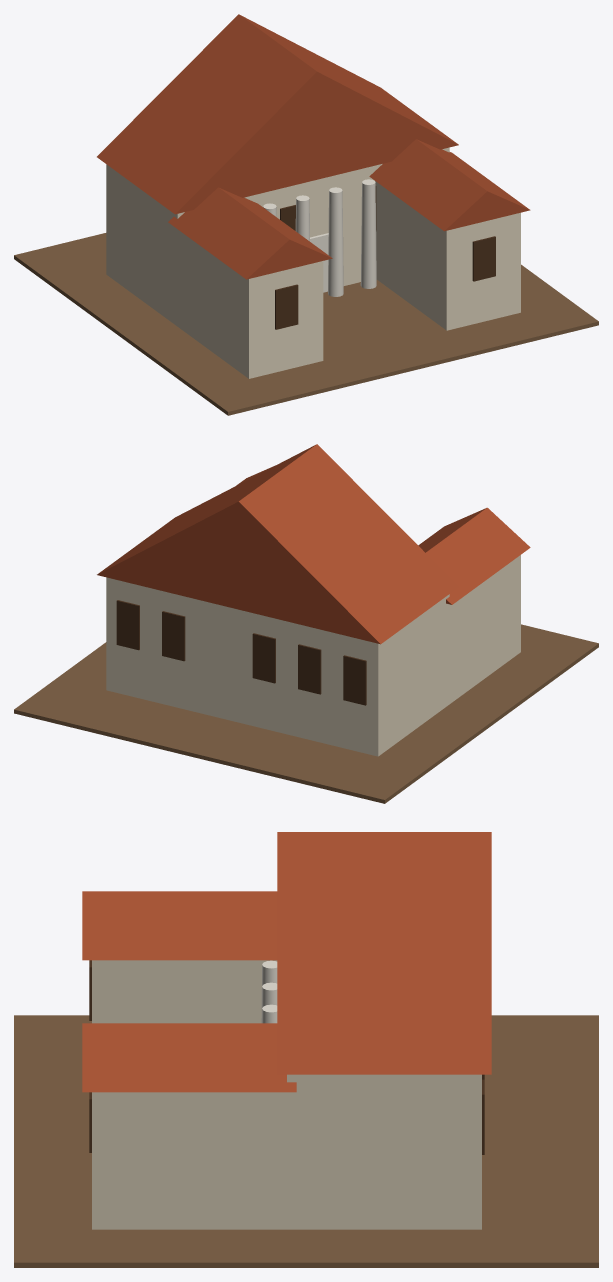
Rendered from bld_special_hospital_a02.glb.
The picture shows the model from 3 angles, top to bottom: view 1: azimuth 30°, elevation 25°; view 2: azimuth 150°, elevation 25°; view 3: azimuth 270°, elevation 25°; orthographic projection. The views are drawn at different scales.
Parts seen in each view (by area): view 1: body; view 2: body; view 3: body.
Boxes of the visible parts, bbox=[...] form: body: bbox=[14, 14, 598, 415]; body: bbox=[14, 444, 598, 803]; body: bbox=[14, 832, 598, 1267].
Size of what is drawn, in the model's own units: 15 by 8.83 by 15.
